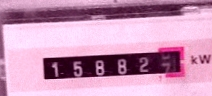1: (50, 60, 60, 78)
2: (137, 55, 149, 72)
5: (71, 59, 83, 77)
7: (160, 60, 171, 74)
8: (94, 58, 105, 75), (117, 57, 127, 74)
screen: (35, 43, 191, 84)
